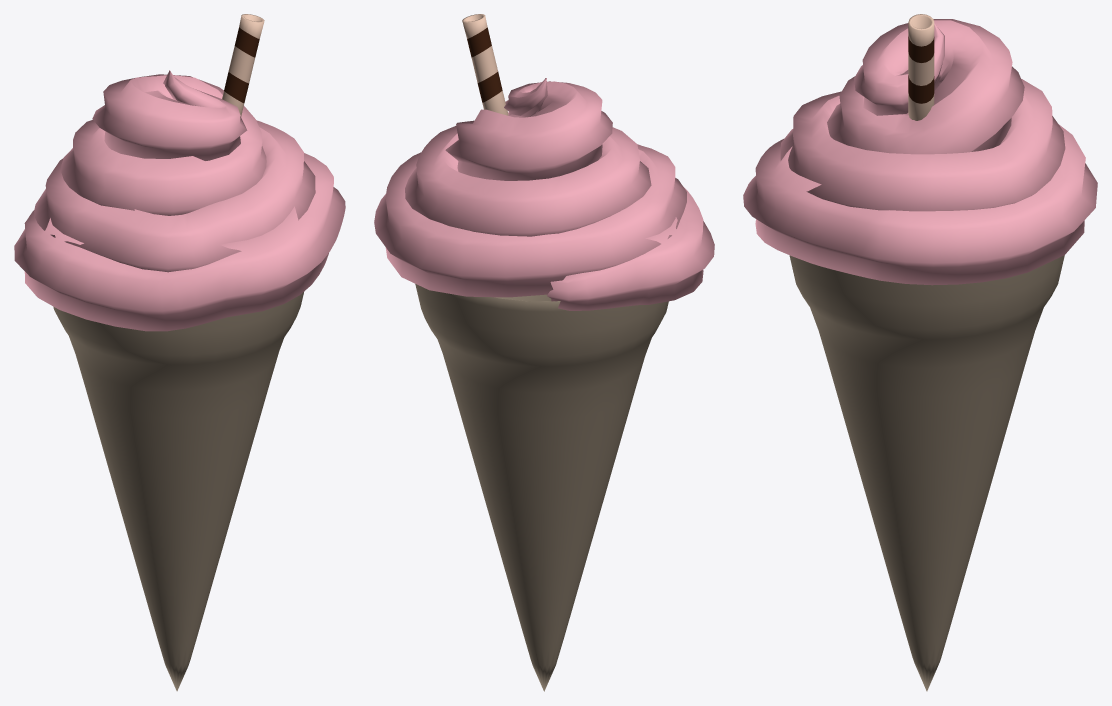
The model's file is sorvete.fbx.
3 views of the same model, side by side, from view 1: azimuth 30°, elevation 25°; view 2: azimuth 150°, elevation 25°; view 3: azimuth 270°, elevation 25° (orthographic). The views are drawn at different scales.
Visible parts, largest first — view 1: coisinho, Cone, Cylinder; view 2: coisinho, Cone, Cylinder; view 3: coisinho, Cone, Cylinder.
Part boxes in pixels (x1=…): coisinho: x1=14, y1=70, x2=345, y2=331; Cone: x1=53, y1=292, x2=303, y2=691; Cylinder: x1=222, y1=14, x2=264, y2=116; coisinho: x1=374, y1=78, x2=714, y2=310; Cone: x1=415, y1=284, x2=668, y2=691; Cylinder: x1=462, y1=14, x2=508, y2=115; coisinho: x1=743, y1=19, x2=1097, y2=285; Cone: x1=789, y1=255, x2=1064, y2=691; Cylinder: x1=908, y1=14, x2=934, y2=120.
Size of the model in its own units: 163 by 336 by 152.
